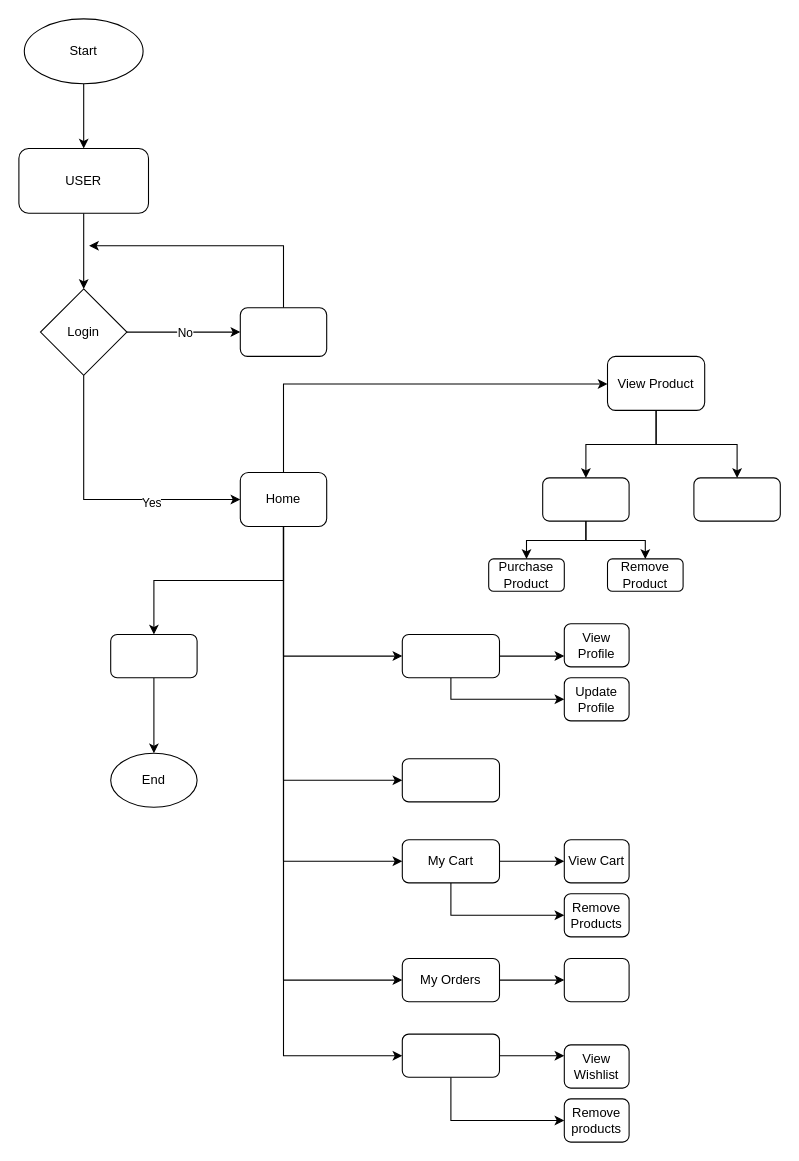
Some shapes in this 799 by 1161 pixel diagram are drawn without their labels. Each missing label, with the centre of its shape:
Add To Cart: (x=585, y=499)
Change Password: (x=450, y=780)
Log Out: (x=153, y=655)
My Wishlist: (x=450, y=1055)
Profile: (x=450, y=655)
Register: (x=283, y=331)
View Ordered Products: (x=596, y=979)
Wishlist Product: (x=736, y=499)
